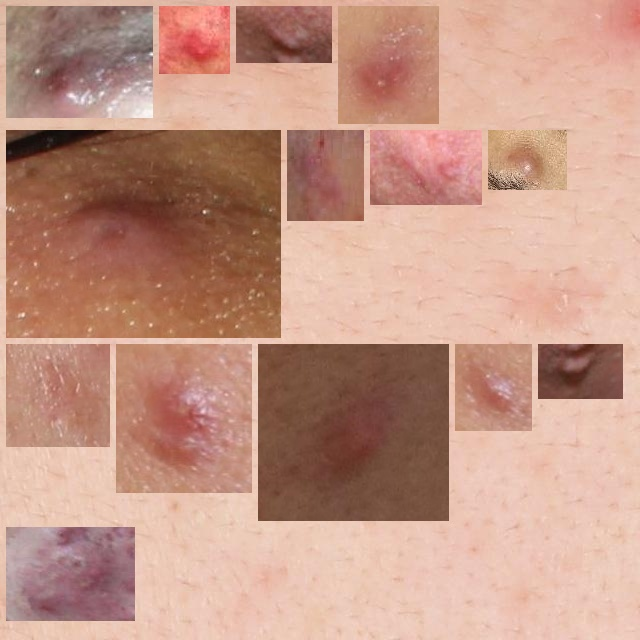nodule: (14, 138, 273, 330), (266, 352, 441, 513), (124, 352, 244, 485), (14, 14, 145, 110), (14, 535, 127, 613), (346, 14, 431, 116), (14, 349, 102, 439), (378, 138, 474, 197), (295, 138, 356, 213), (463, 352, 524, 423), (244, 14, 324, 55), (167, 14, 222, 66), (496, 138, 559, 182), (546, 352, 615, 391)
